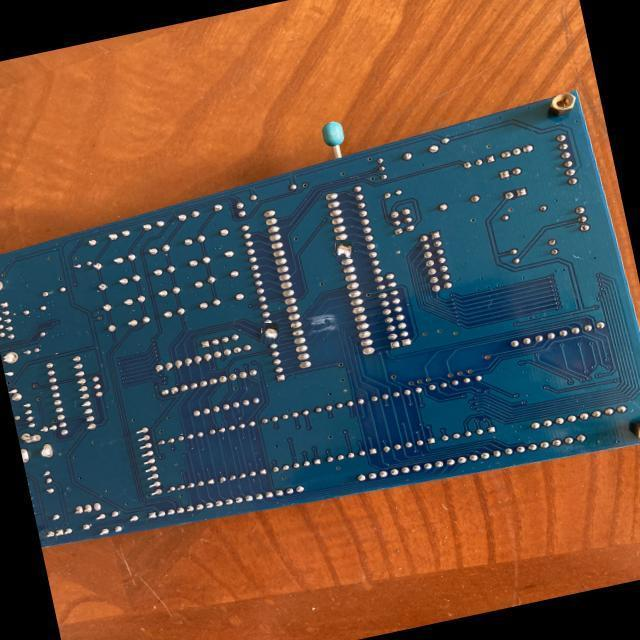damged: (260, 324, 280, 343), (335, 239, 353, 259)
